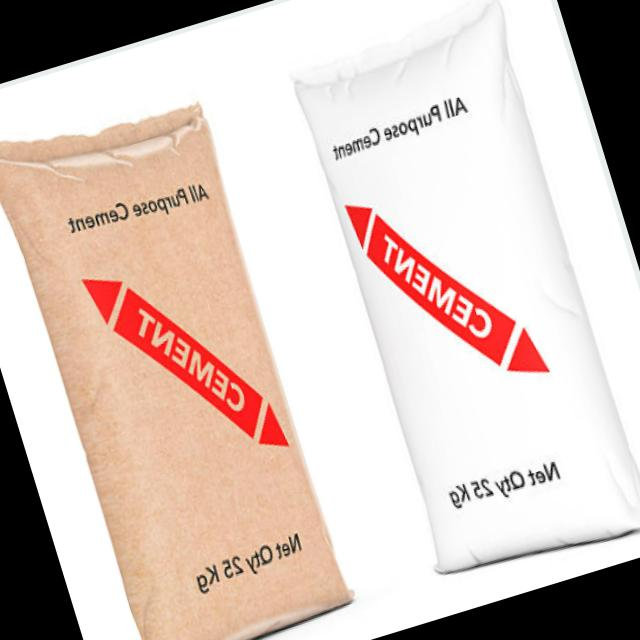KantongSemen: (278, 0, 640, 592), (0, 75, 362, 640)
